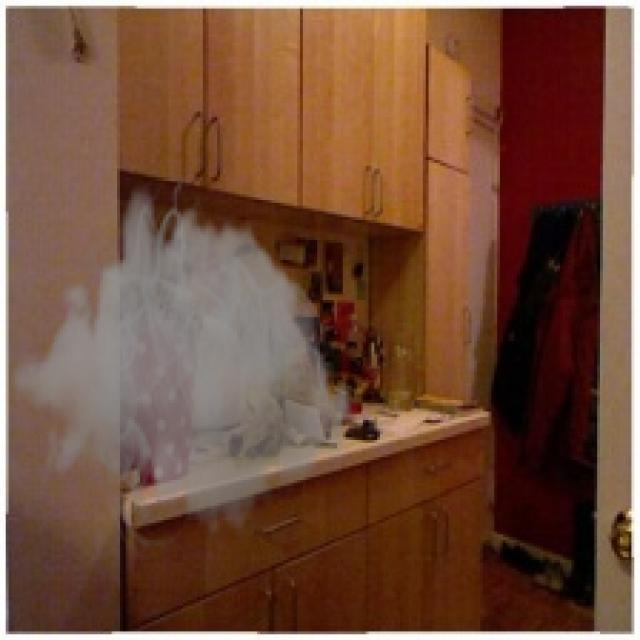Smoke: (8, 171, 354, 566)
